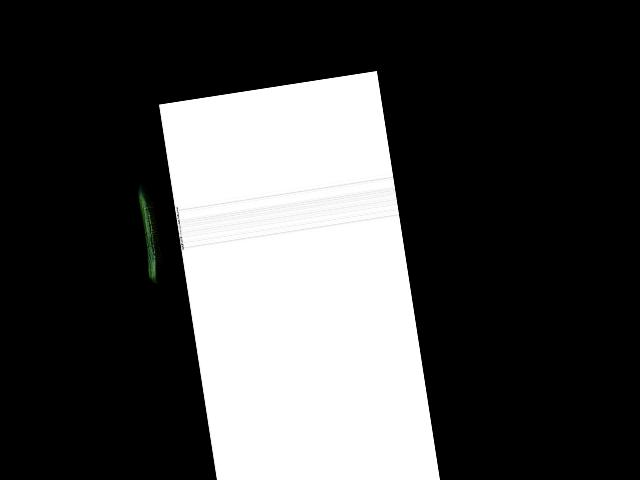cucumber: (135, 181, 166, 285)
